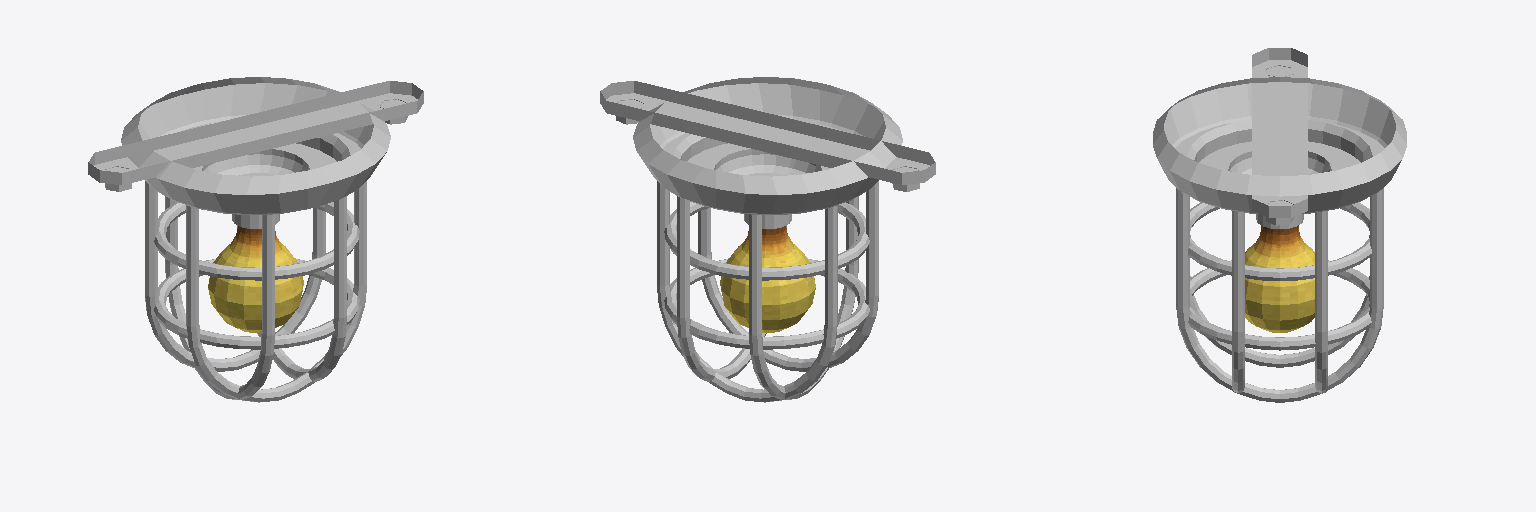
3 renders of one model, left to right at view 1: azimuth 30°, elevation 25°; view 2: azimuth 150°, elevation 25°; view 3: azimuth 270°, elevation 25°, orthographic.
Visible parts, largest first — view 1: lamp_0; view 2: lamp_0; view 3: lamp_0.
Part boxes in pixels (x1,y1,x2,y2): lamp_0: (88,77,423,402); lamp_0: (600,77,935,402); lamp_0: (1153,48,1406,402).
Bounding box in the file's own units: 0.27 × 0.206 × 0.1839.
3 materials, 1 textured.